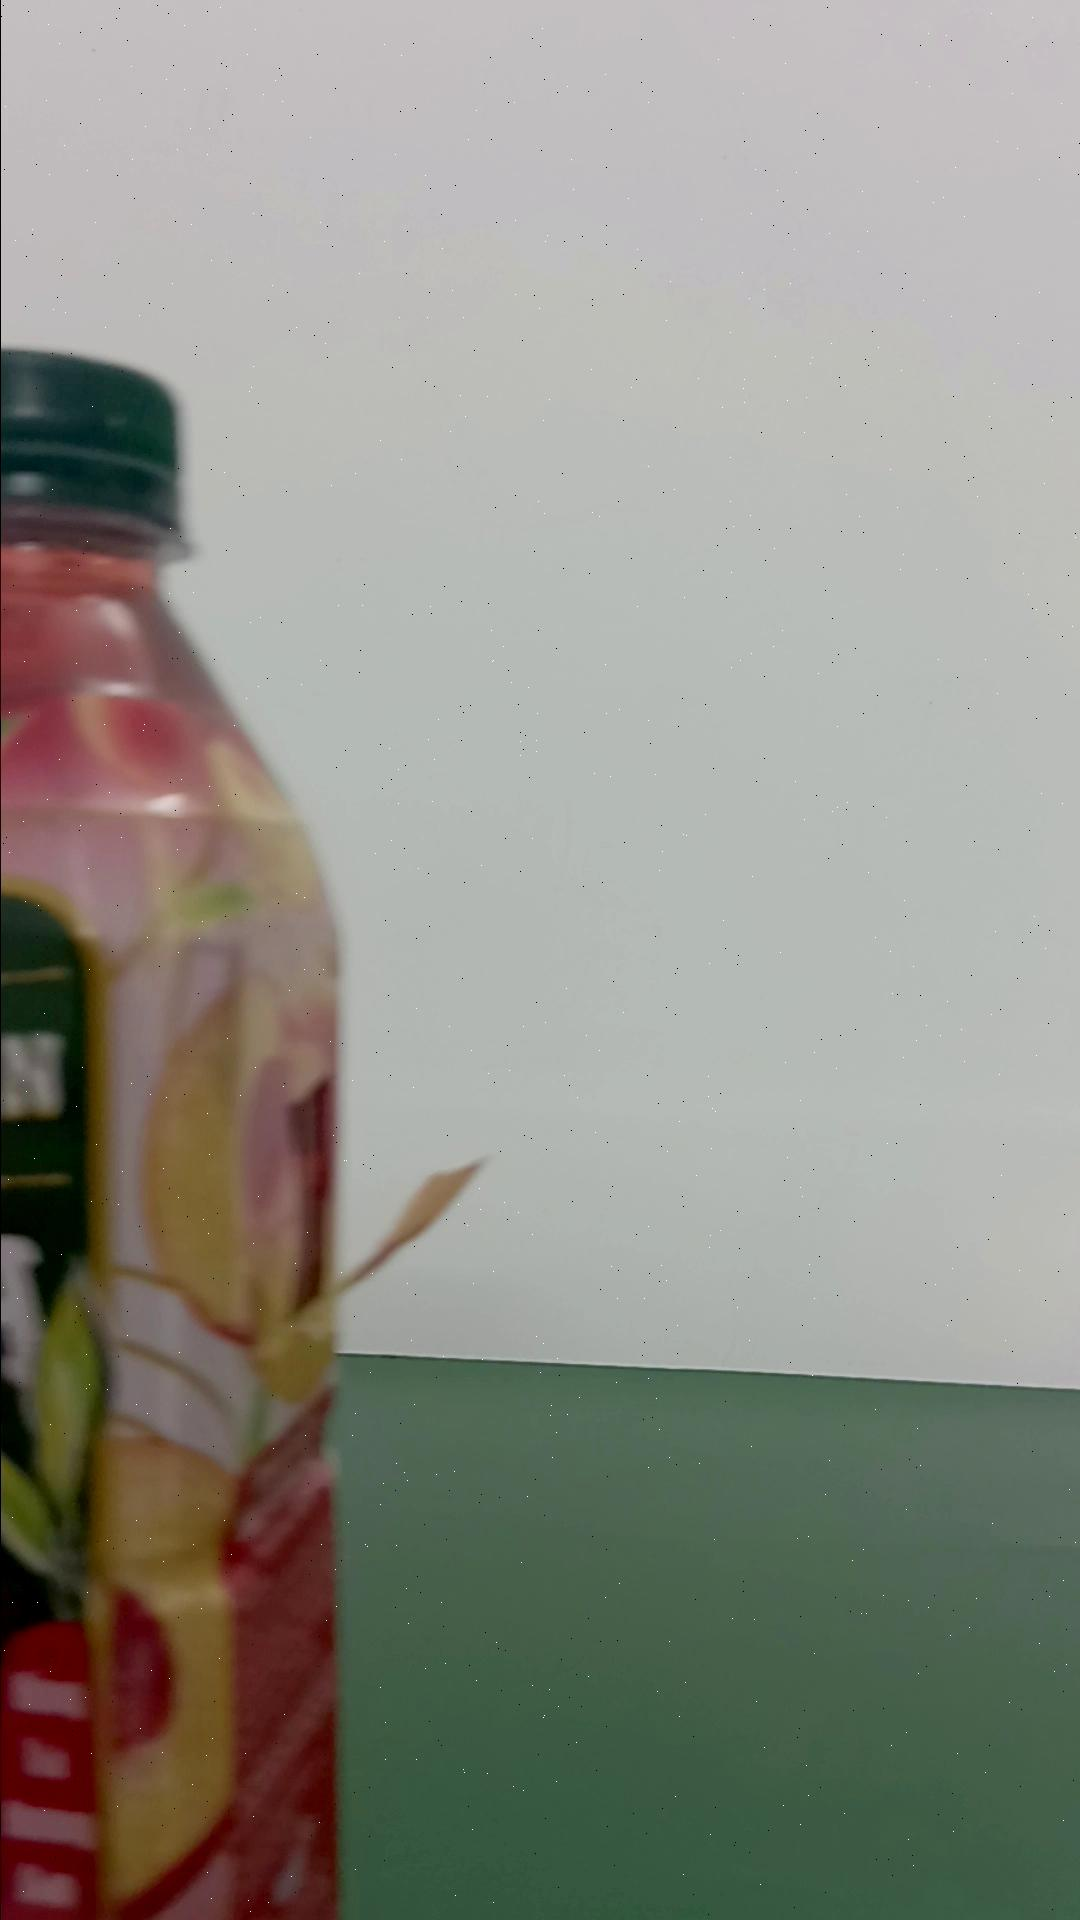loi rach va lap chai: (1, 339, 388, 1920)
